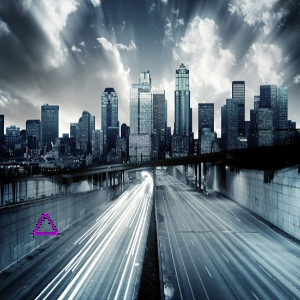triangle: (31, 211, 60, 238)
